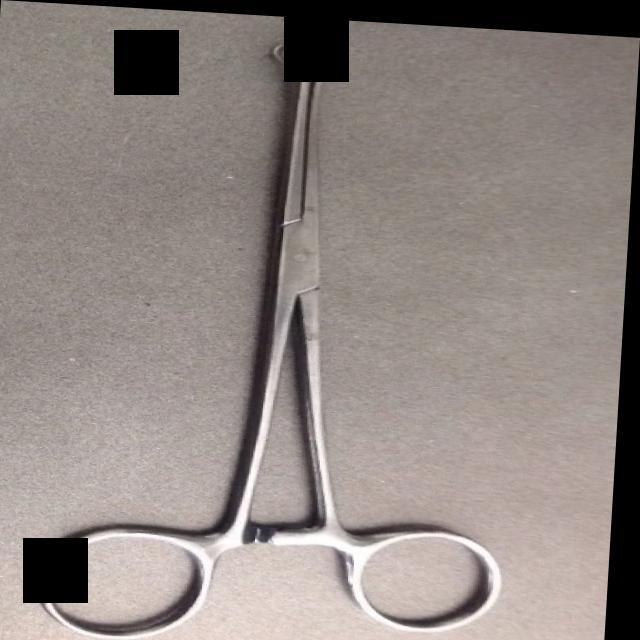Babcock Forceps: (34, 17, 537, 640)
